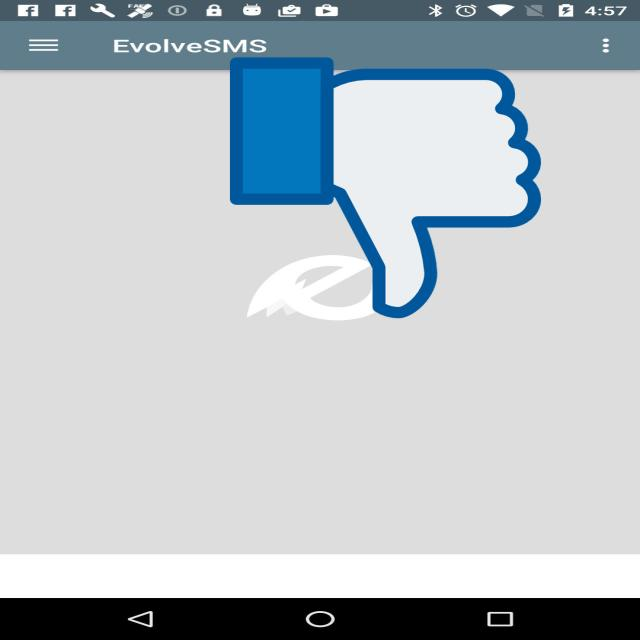obstruction: (230, 52, 541, 324)
